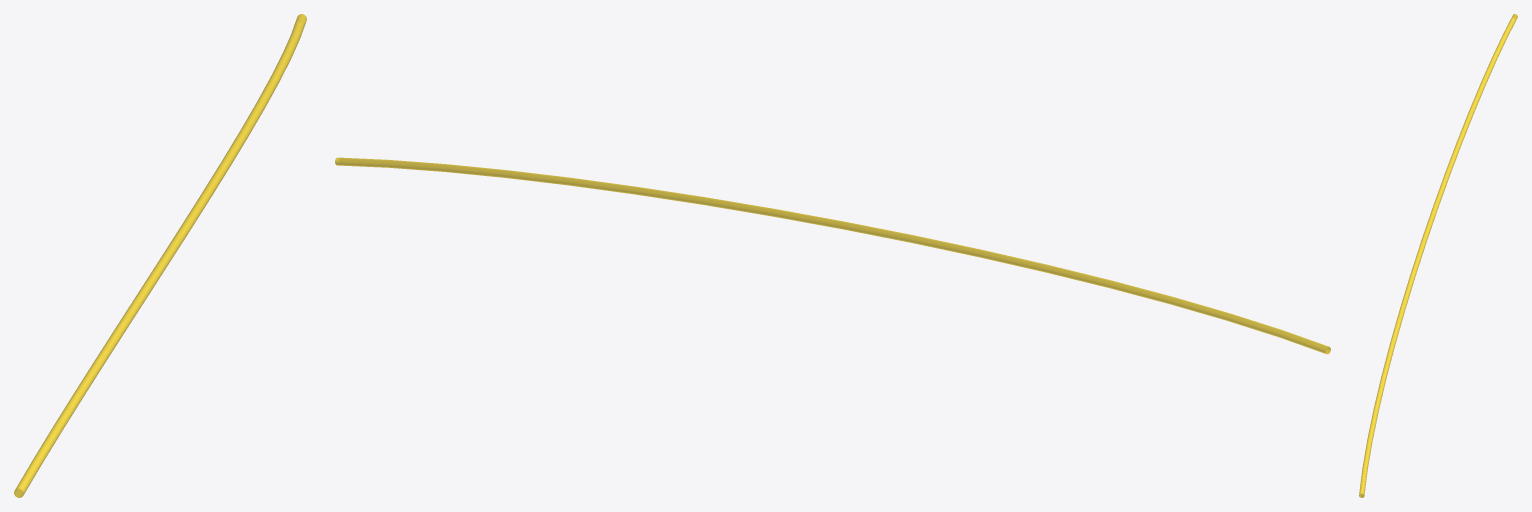
Rendered from Event_402970704_track_30.fbx.
3 views of the same model, side by side, from view 1: azimuth 90°, elevation 25°; view 2: azimuth 150°, elevation 25°; view 3: azimuth 270°, elevation 25° (orthographic). The views are drawn at different scales.
Parts seen in each view (by area): view 1: Model; view 2: Model; view 3: Model.
Part boxes in pixels (x1=…): Model: x1=14, y1=14, x2=306, y2=497; Model: x1=335, y1=157, x2=1330, y2=354; Model: x1=1359, y1=14, x2=1517, y2=497.
Bounding box in the file's own units: 6.37 × 0.9324 × 1.16.
